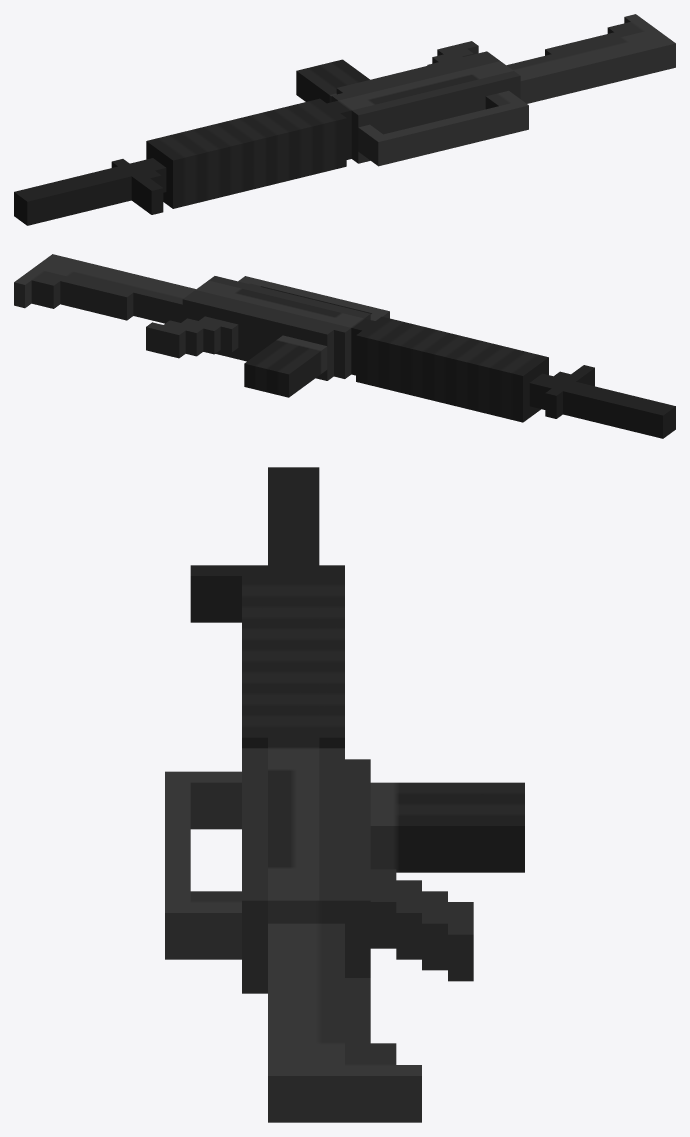
The model's file is Weapon066.fbx.
3 renders of one model, top to bottom at view 1: azimuth 30°, elevation 25°; view 2: azimuth 150°, elevation 25°; view 3: azimuth 270°, elevation 25°, orthographic. The views are drawn at different scales.
Visible parts, largest first — view 1: Weapon066; view 2: Weapon066; view 3: Weapon066.
Boxes of the visible parts, x1,y1,x2,y2 form: Weapon066: [14, 14, 675, 225]; Weapon066: [14, 254, 675, 438]; Weapon066: [165, 467, 524, 1122].
Size of the model in its own units: 56 by 4 by 14.
